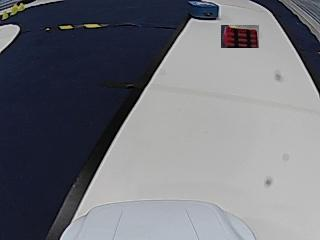prop: (190, 1, 218, 20)
